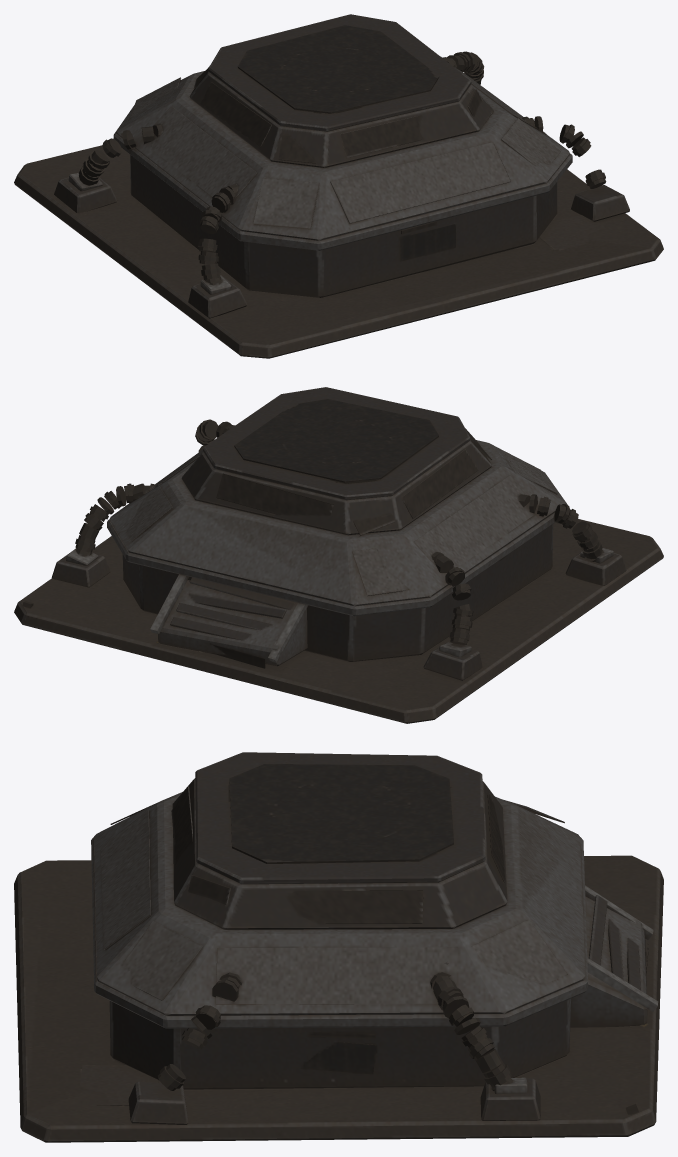
The model's file is chs_advconverter_wreck.fbx.
3 renders of one model, top to bottom at view 1: azimuth 30°, elevation 25°; view 2: azimuth 150°, elevation 25°; view 3: azimuth 270°, elevation 25°, orthographic. The views are drawn at different scales.
Parts seen in each view (by area): view 1: base_bar, crucible_bar; view 2: base_bar, crucible_bar; view 3: base_bar, crucible_bar.
Part boxes in pixels (box(x1,y1,x2,y2)): base_bar: box(14, 51, 663, 358); crucible_bar: box(189, 14, 493, 167); base_bar: box(14, 419, 663, 723); crucible_bar: box(181, 387, 491, 535); base_bar: box(14, 792, 663, 1142); crucible_bar: box(171, 752, 507, 929).
Bounding box in the file's own units: 2344 × 976 × 2364.
Materials: 2 (2 with a texture image).
